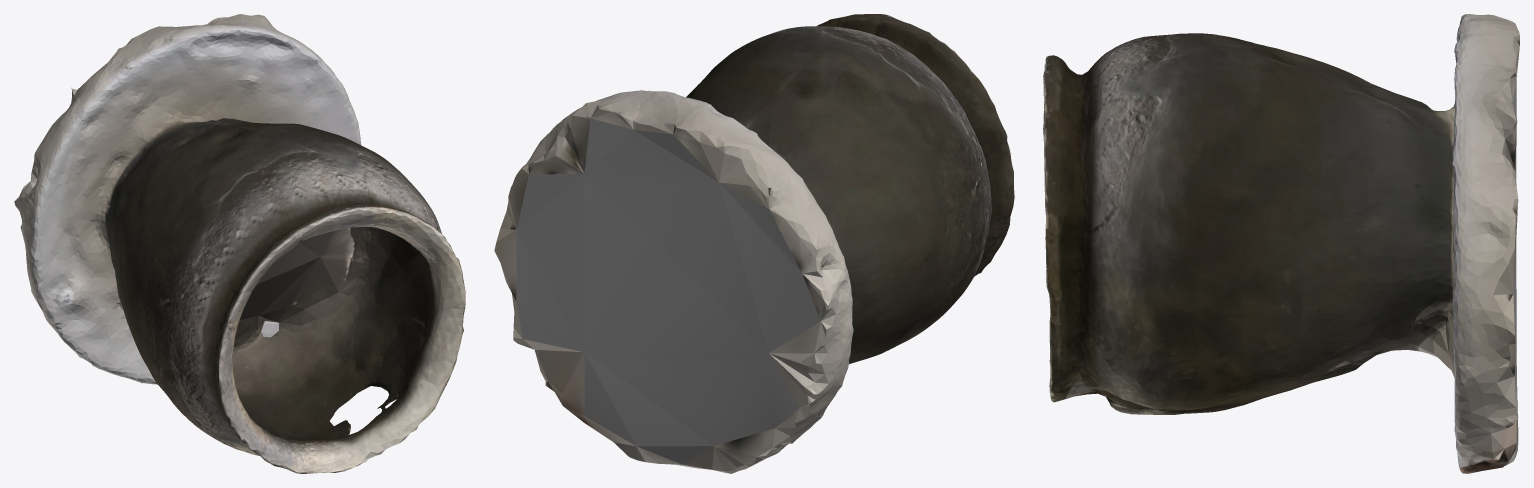
Rendered from clay_pot.glb.
3 views of the same model, side by side, from view 1: azimuth 30°, elevation 25°; view 2: azimuth 150°, elevation 25°; view 3: azimuth 270°, elevation 25° (orthographic). The views are drawn at different scales.
Parts seen in each view (by area): view 1: default; view 2: default; view 3: default.
Part boxes in pixels (bbox=[...]): default: bbox=[14, 14, 465, 473]; default: bbox=[494, 14, 1014, 473]; default: bbox=[1043, 14, 1519, 473].
Bounding box in the file's own units: 6 × 6.09 × 6.29.
1 material, 1 textured.
